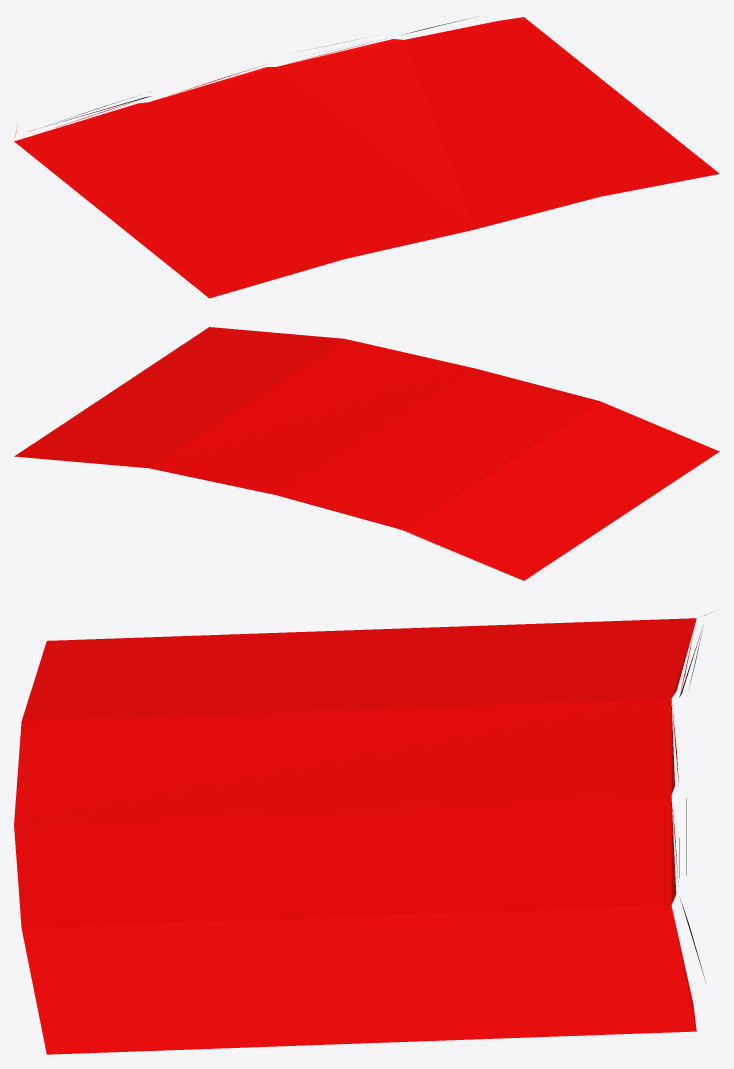
The model's file is Cofre.fbx.
The picture shows the model from 3 angles, top to bottom: view 1: azimuth 30°, elevation 25°; view 2: azimuth 150°, elevation 25°; view 3: azimuth 270°, elevation 25°; orthographic projection. The views are drawn at different scales.
Parts seen in each view (by area): view 1: Object001; view 2: Object001; view 3: Object001.
Boxes of the visible parts, box(x1,y1,x2,y2) form: Object001: box(14, 16, 719, 298); Object001: box(14, 327, 719, 580); Object001: box(14, 612, 711, 1054).
Bounding box in the file's own units: 1.94 × 0.1368 × 1.4.
